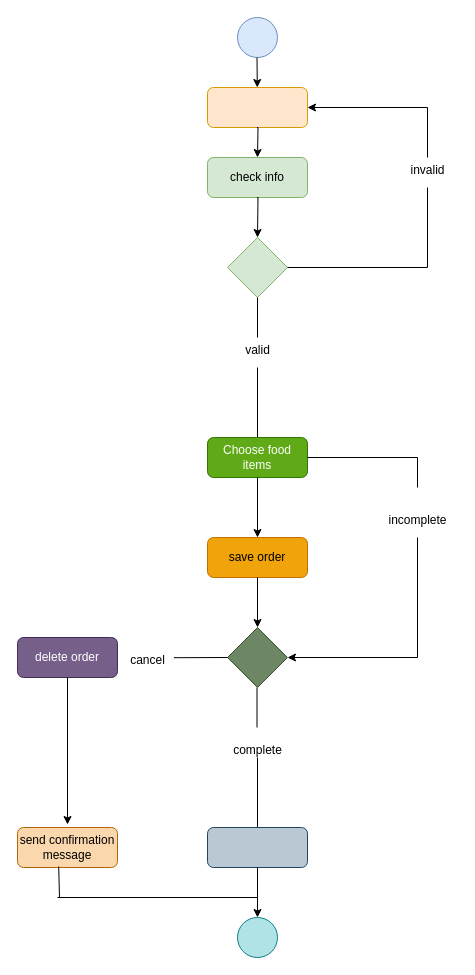
The diagram is 475 pixels wide and 975 high, and some of its shapes have lost their labels. Each missing label, with the centre of its shape:
"create an account" goes at point (257, 107).
"pay fees" goes at point (257, 847).
